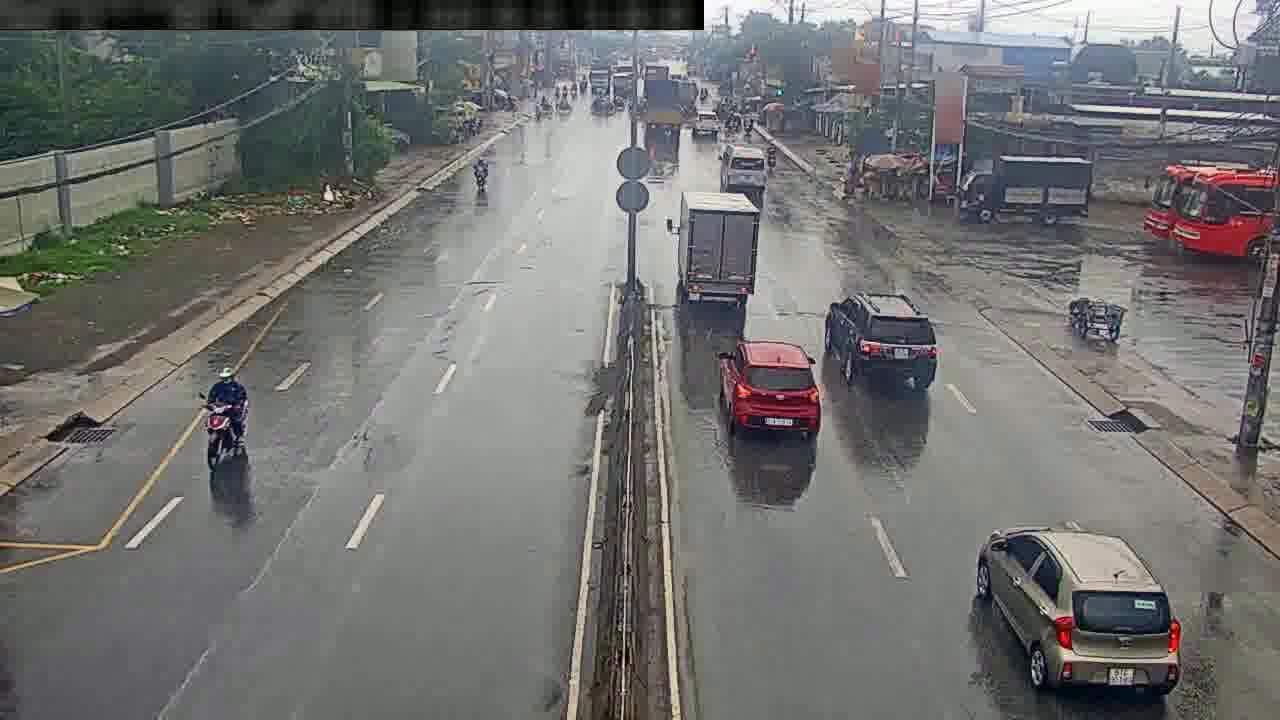14: (720, 147, 766, 188)
8: (682, 190, 761, 298), (645, 86, 685, 140)
container: (976, 523, 1179, 701), (827, 293, 938, 384), (720, 338, 820, 438), (720, 147, 766, 188)
motorbike: (205, 370, 249, 472), (472, 150, 488, 194)
